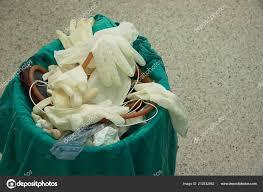Glove: (128, 82, 187, 136), (91, 35, 144, 86), (45, 102, 128, 130), (87, 70, 130, 104), (56, 17, 93, 48), (95, 22, 138, 43)
